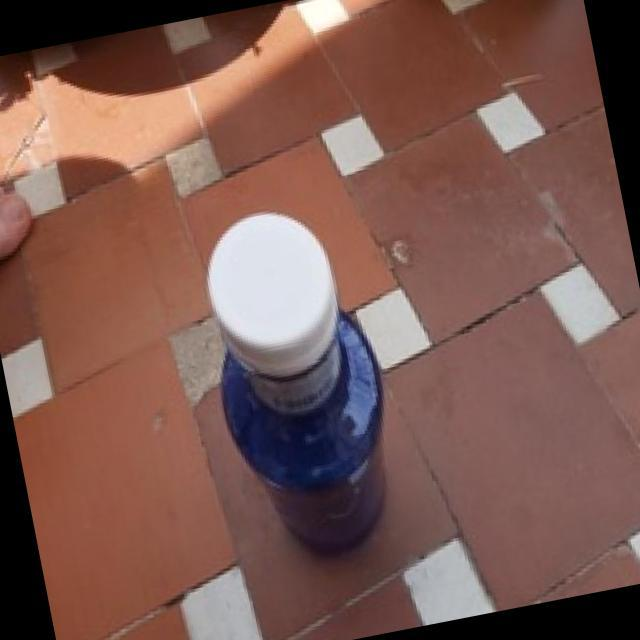good: (146, 192, 422, 592)
